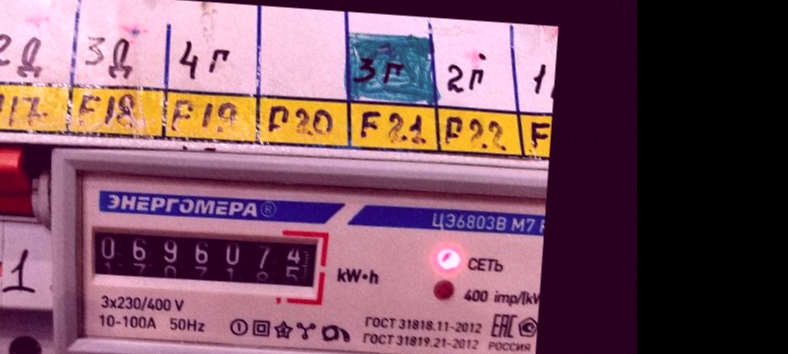0: (96, 233, 115, 259), (221, 239, 239, 266)
4: (284, 242, 299, 264)
5: (282, 264, 298, 284)
6: (190, 236, 208, 264), (127, 234, 146, 260)
7: (252, 242, 270, 269)
9: (158, 236, 177, 263)
screen: (79, 212, 330, 306)
